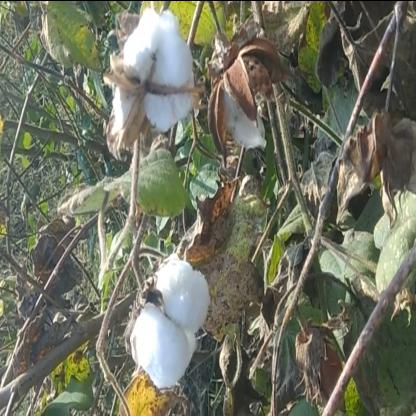cotton_ready: (96, 10, 214, 174), (118, 228, 226, 402)
